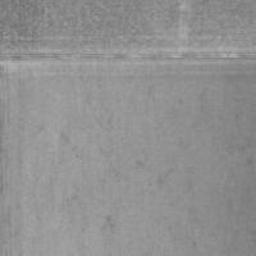Welding line: (0, 52, 256, 61)
